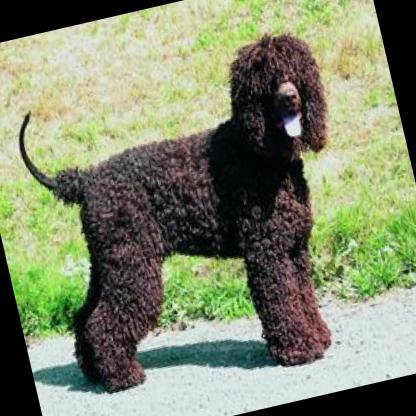Irish_water_spaniel: (3, 23, 385, 416)
